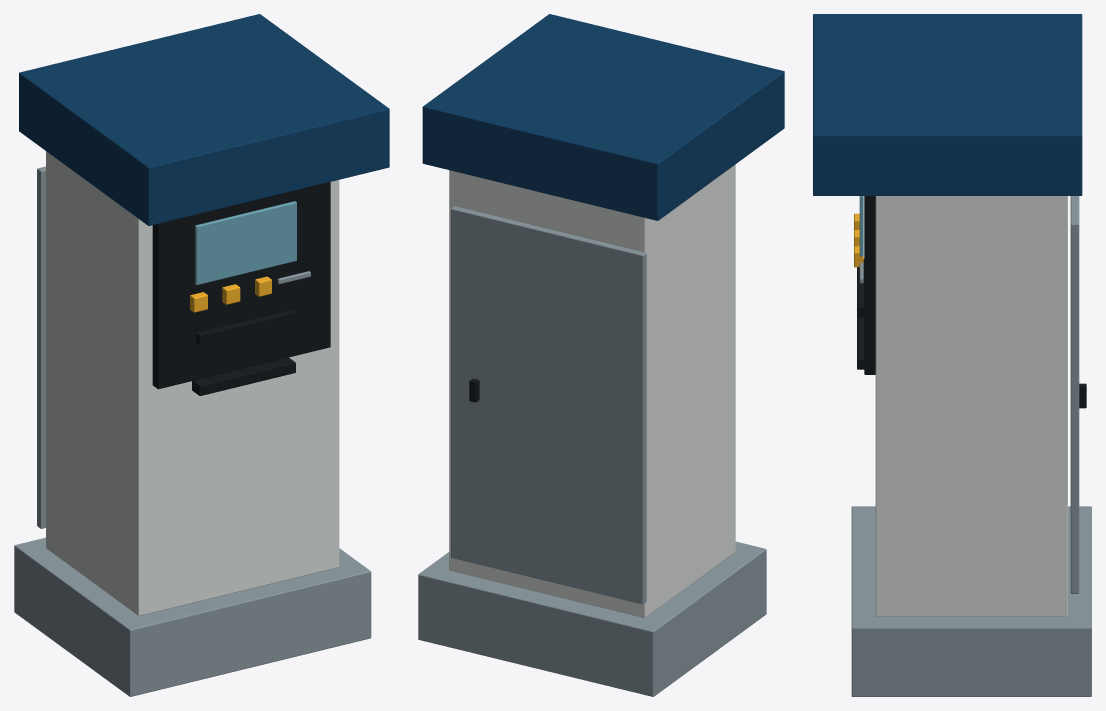
Rendered from edited.glb.
3 renders of one model, left to right at view 1: azimuth 30°, elevation 25°; view 2: azimuth 150°, elevation 25°; view 3: azimuth 270°, elevation 25°, orthographic. The views are drawn at different scales.
Parts seen in each view (by area): view 1: HOOD, ENCLOSURE_Front, ENCLOSURE_Side, PLINTH, FACE_Recess, SCREEN, SERVICE_Door, ENCLOSURE_Cap, ENCLOSURE_Side.001, TICKET_Mouth.001, TICKET_Mouth; view 2: SERVICE_Door, HOOD, ENCLOSURE_Side, PLINTH, ENCLOSURE_RearHeader, ENCLOSURE_Cap, ENCLOSURE_RearSill, ENCLOSURE_Front, ENCLOSURE_Side.001; view 3: ENCLOSURE_Side.001, HOOD, PLINTH, SERVICE_Door, ENCLOSURE_Front, FACE_Recess, ENCLOSURE_Cap.
Boxes of the visible parts, left/top/right/bottom form: HOOD: left=19, top=14, right=389, bottom=225; ENCLOSURE_Front: left=134, top=180, right=339, bottom=615; ENCLOSURE_Side: left=46, top=153, right=145, bottom=615; PLINTH: left=14, top=537, right=371, bottom=696; FACE_Recess: left=152, top=182, right=330, bottom=389; SCREEN: left=195, top=201, right=296, bottom=284; SERVICE_Door: left=37, top=166, right=45, bottom=528; ENCLOSURE_Cap: left=46, top=541, right=339, bottom=615; ENCLOSURE_Side.001: left=332, top=181, right=339, bottom=568; TICKET_Mouth.001: left=192, top=357, right=295, bottom=395; TICKET_Mouth: left=196, top=309, right=295, bottom=345; SERVICE_Door: left=451, top=206, right=646, bottom=604; HOOD: left=422, top=14, right=784, bottom=220; ENCLOSURE_Side: left=638, top=165, right=735, bottom=617; PLINTH: left=418, top=541, right=766, bottom=696; ENCLOSURE_RearHeader: left=449, top=170, right=649, bottom=251; ENCLOSURE_Cap: left=449, top=545, right=735, bottom=617; ENCLOSURE_RearSill: left=456, top=559, right=649, bottom=617; ENCLOSURE_Front: left=732, top=164, right=735, bottom=547; ENCLOSURE_Side.001: left=449, top=171, right=455, bottom=571; ENCLOSURE_Side.001: left=875, top=196, right=1067, bottom=616; HOOD: left=813, top=14, right=1082, bottom=195; PLINTH: left=851, top=506, right=1091, bottom=696; SERVICE_Door: left=1070, top=196, right=1079, bottom=593; ENCLOSURE_Front: left=876, top=196, right=884, bottom=616; FACE_Recess: left=864, top=196, right=875, bottom=374; ENCLOSURE_Cap: left=876, top=609, right=1067, bottom=616.
Bounding box in the file's own units: 0.6 × 1.29 × 0.58.
